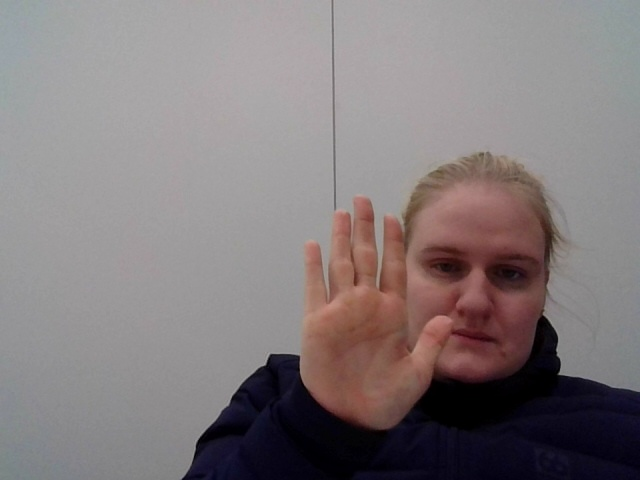nada: (250, 185, 483, 445)
